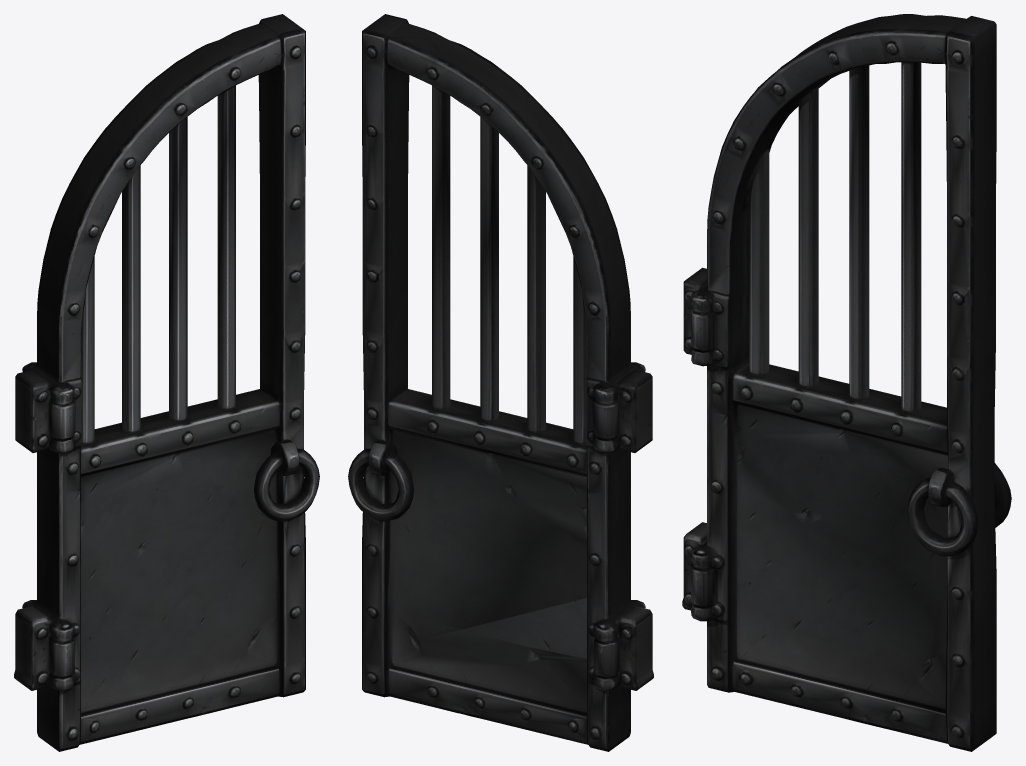
The model's file is door_leaf.glb.
The picture shows the model from 3 angles, left to right: view 1: azimuth 30°, elevation 25°; view 2: azimuth 150°, elevation 25°; view 3: azimuth 330°, elevation 25°; orthographic projection. The views are drawn at different scales.
Parts seen in each view (by area): view 1: tripo_node_07ae26ce-2835-40cc-89ec-9234e18568e0; view 2: tripo_node_07ae26ce-2835-40cc-89ec-9234e18568e0; view 3: tripo_node_07ae26ce-2835-40cc-89ec-9234e18568e0.
Boxes of the visible parts, box(x1,y1,x2,y2) form: tripo_node_07ae26ce-2835-40cc-89ec-9234e18568e0: box(14, 14, 319, 751); tripo_node_07ae26ce-2835-40cc-89ec-9234e18568e0: box(348, 14, 653, 751); tripo_node_07ae26ce-2835-40cc-89ec-9234e18568e0: box(682, 14, 1011, 751).
Bounding box in the file's own units: 0.4442 × 1 × 0.1272.
1 material, 1 textured.
